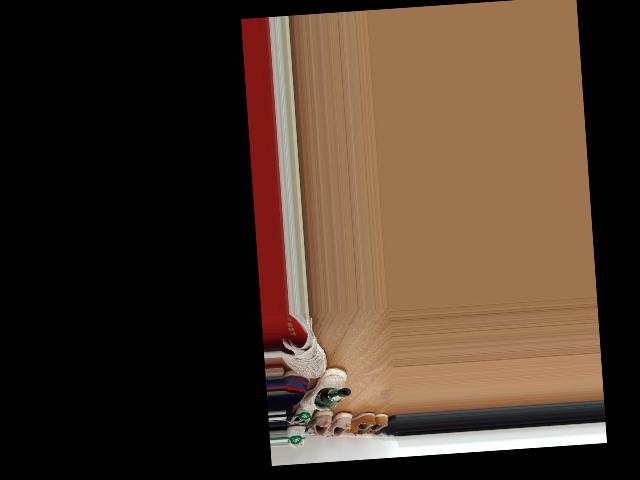beer: (314, 386, 352, 406)
